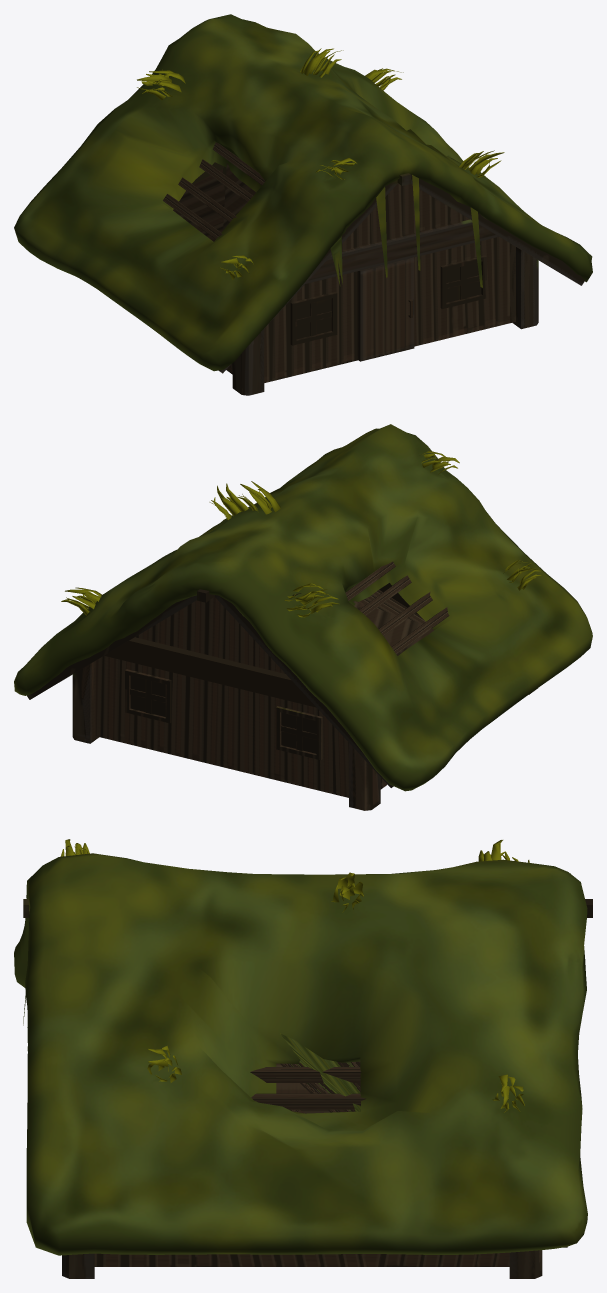
The model's file is SM_House_03.fbx.
3 renders of one model, top to bottom at view 1: azimuth 30°, elevation 25°; view 2: azimuth 150°, elevation 25°; view 3: azimuth 270°, elevation 25°, orthographic. The views are drawn at different scales.
Parts seen in each view (by area): view 1: Cube.002; view 2: Cube.002; view 3: Cube.002.
Boxes of the visible parts, left/top/right/bottom form: Cube.002: left=14, top=14, right=592, bottom=395; Cube.002: left=14, top=424, right=592, bottom=810; Cube.002: left=14, top=839, right=592, bottom=1278.
Bounding box in the file's own units: 850 × 462 × 748.
